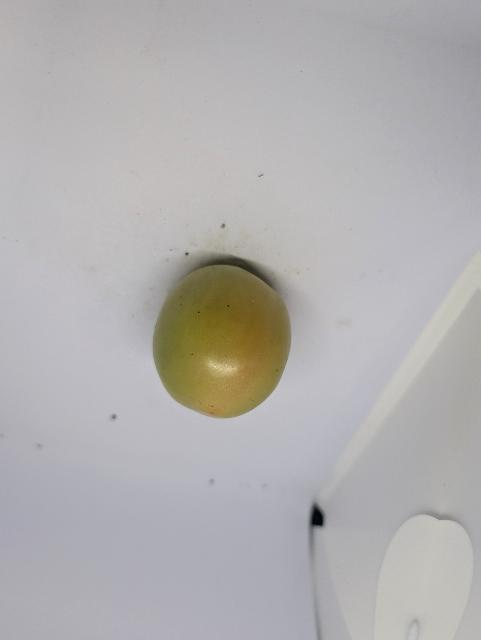breaker: (148, 256, 298, 426)
